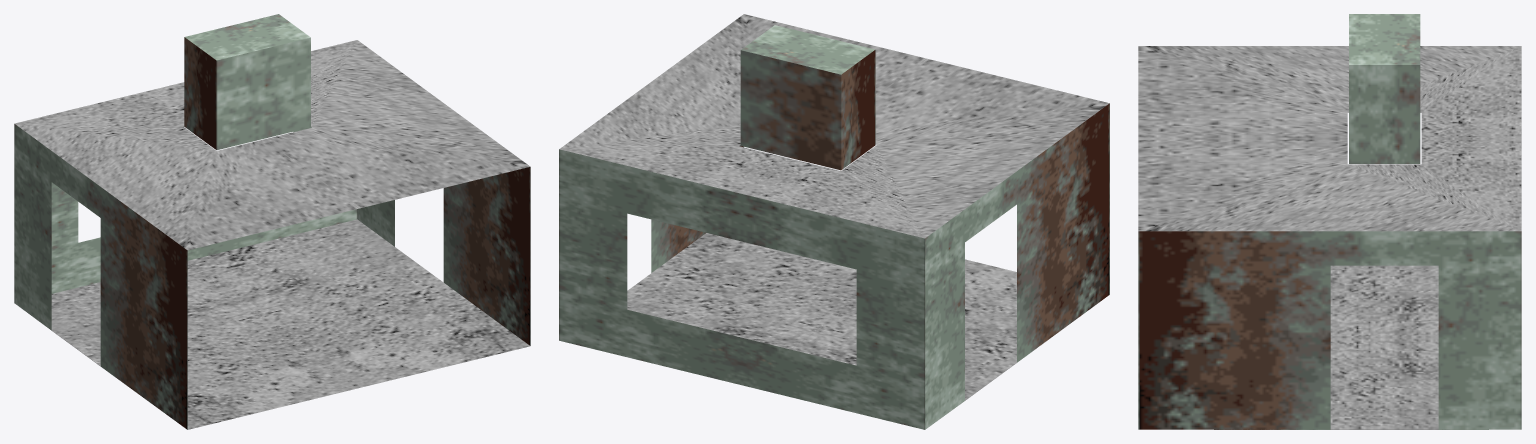
File: room.gltf
The picture shows the model from 3 angles, left to right: view 1: azimuth 30°, elevation 25°; view 2: azimuth 150°, elevation 25°; view 3: azimuth 270°, elevation 25°; orthographic projection. The views are drawn at different scales.
Parts seen in each view (by area): view 1: Room, VentCelling; view 2: Room, VentCelling; view 3: Room, VentCelling.
Part boxes in pixels (<box>): Room: <box>14,40,530,429</box>; VentCelling: <box>184,14,310,150</box>; Room: <box>559,14,1109,429</box>; VentCelling: <box>740,25,875,170</box>; Room: <box>1138,46,1521,429</box>; VentCelling: <box>1349,14,1420,163</box>.
Bounding box in the file's own units: 16 × 12.01 × 14.
Materials: 2 (2 with a texture image).
